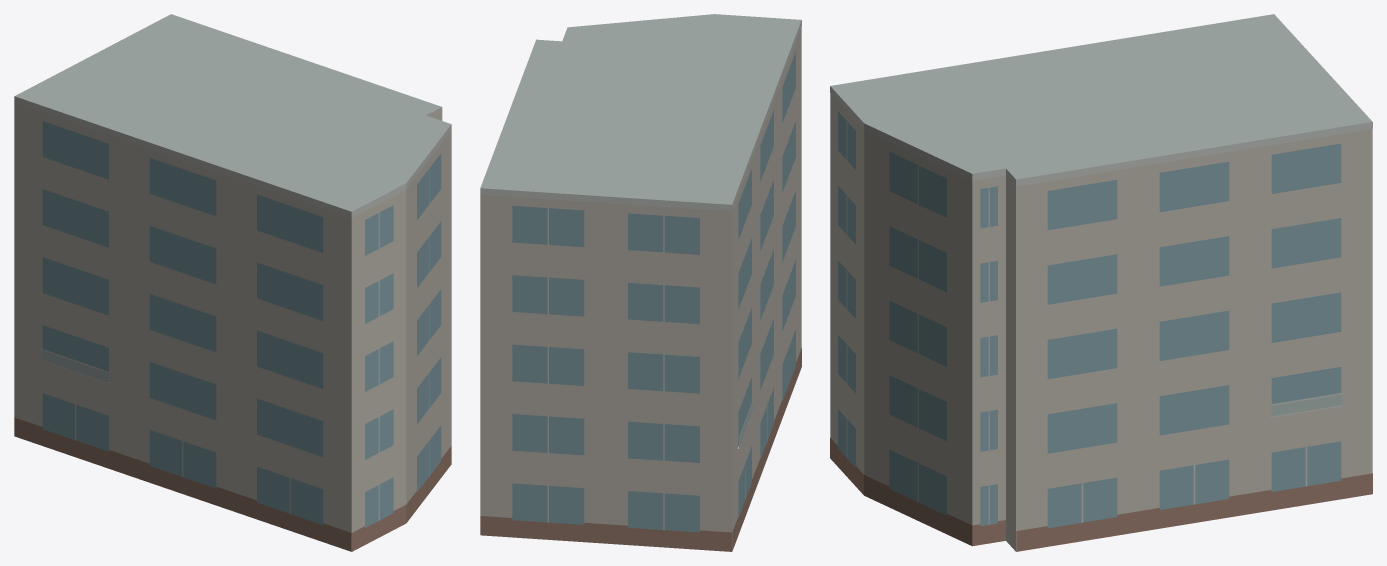
File: survey-upis-32718067.glb
3 renders of one model, left to right at view 1: azimuth 30°, elevation 25°; view 2: azimuth 150°, elevation 25°; view 3: azimuth 270°, elevation 25°, orthographic. The views are drawn at different scales.
Parts seen in each view (by area): view 1: survey-upis-32718067.tmp; view 2: survey-upis-32718067.tmp; view 3: survey-upis-32718067.tmp.
Boxes of the visible parts, bbox=[...] form: survey-upis-32718067.tmp: bbox=[14, 14, 451, 551]; survey-upis-32718067.tmp: bbox=[480, 14, 801, 551]; survey-upis-32718067.tmp: bbox=[830, 14, 1372, 551].
Bounding box in the file's own units: 12.41 × 13 × 17.18.
